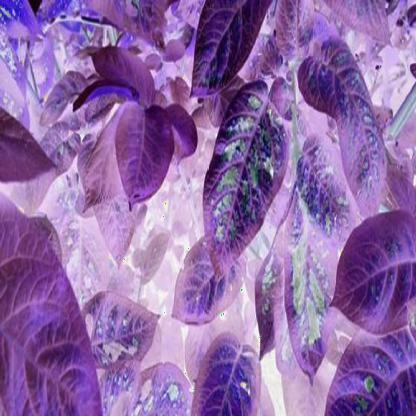Potato leaf late blight: (296, 32, 386, 225), (202, 76, 284, 278), (282, 196, 337, 379), (294, 130, 362, 254), (76, 294, 158, 372), (130, 362, 192, 415)
